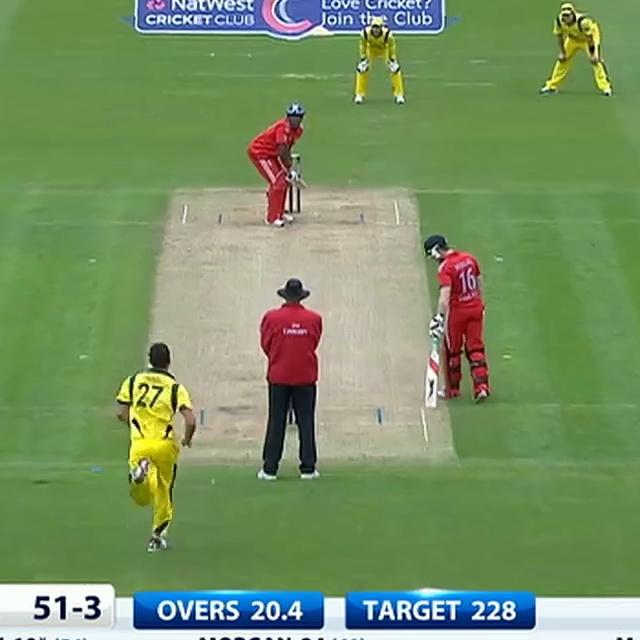umpire: (246, 270, 336, 485)
